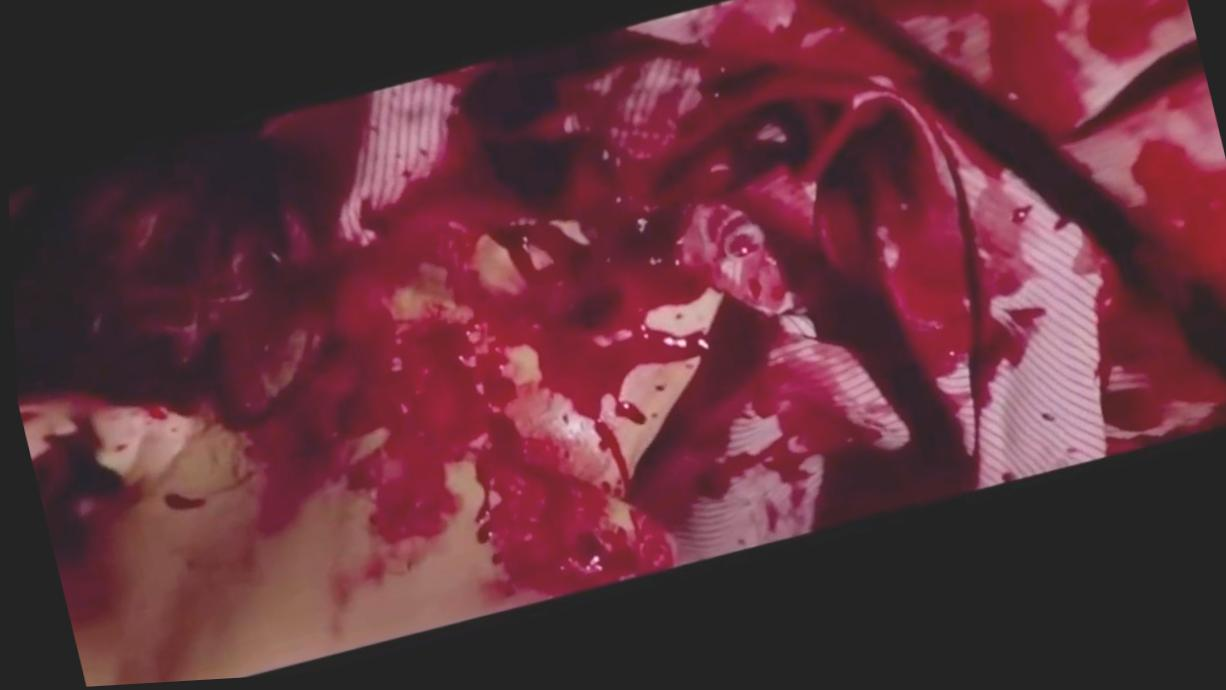Fire: (75, 0, 1226, 616)
